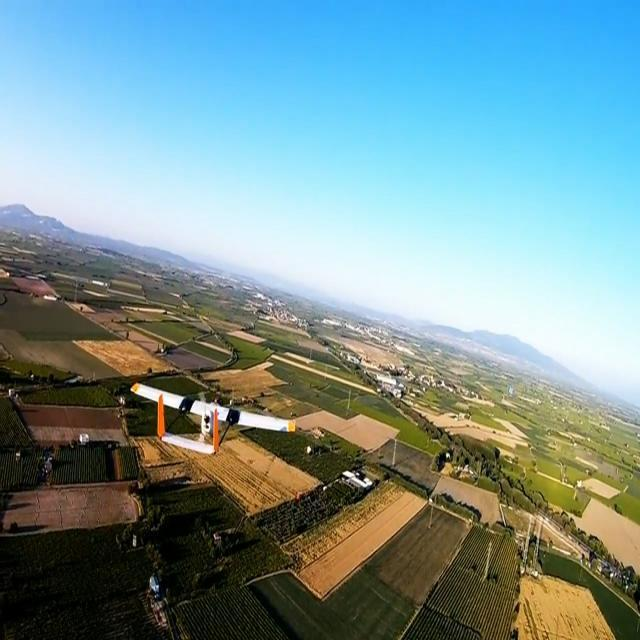iha: (128, 410, 300, 430)
